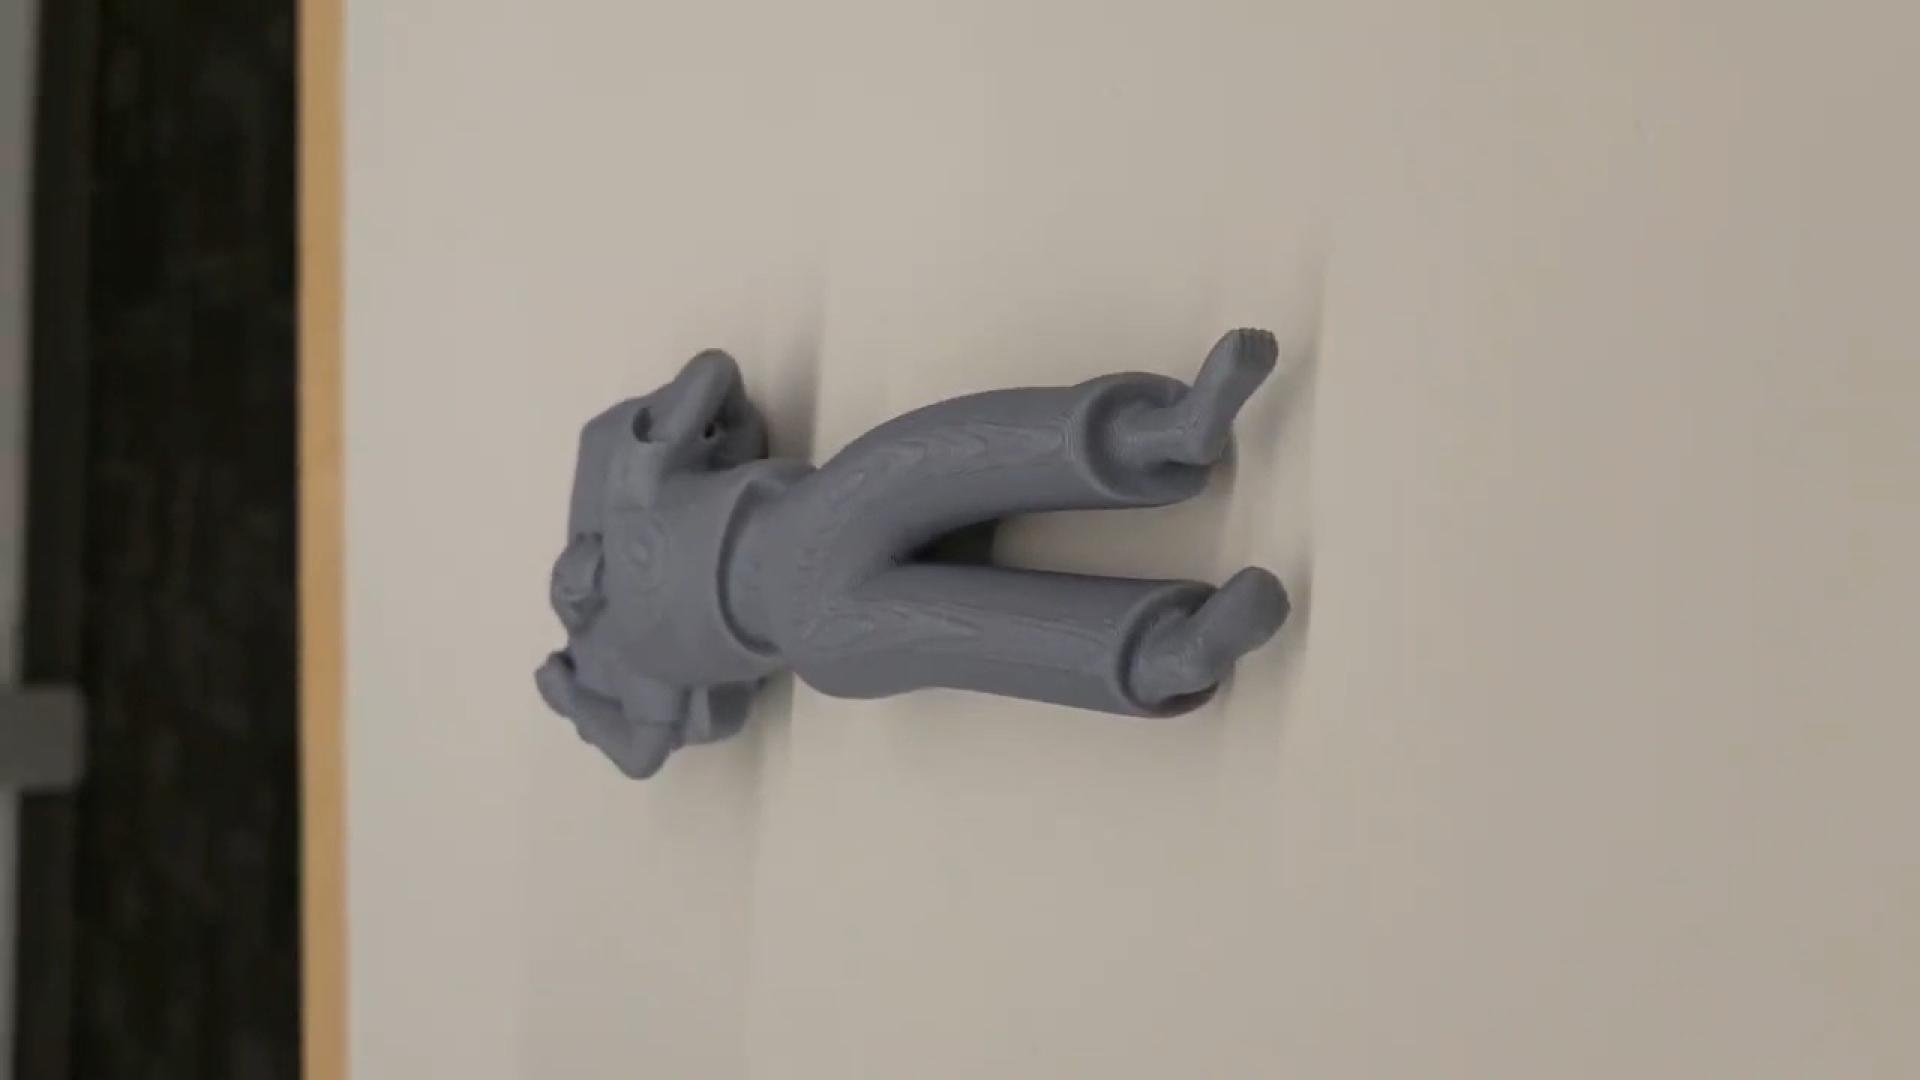Bad-style: (534, 318, 1298, 791)
